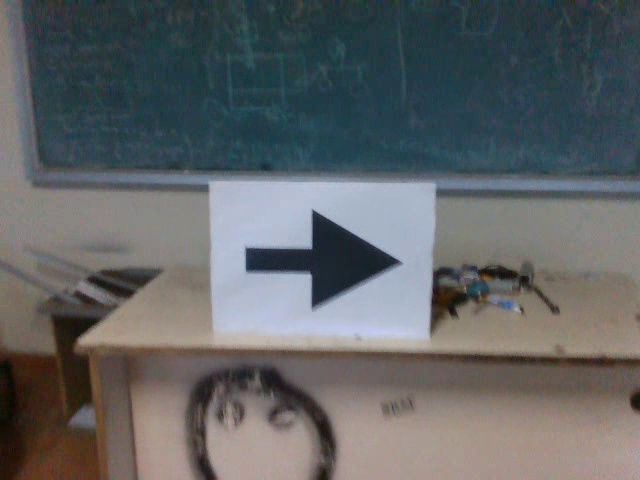Right: (236, 203, 410, 317)
